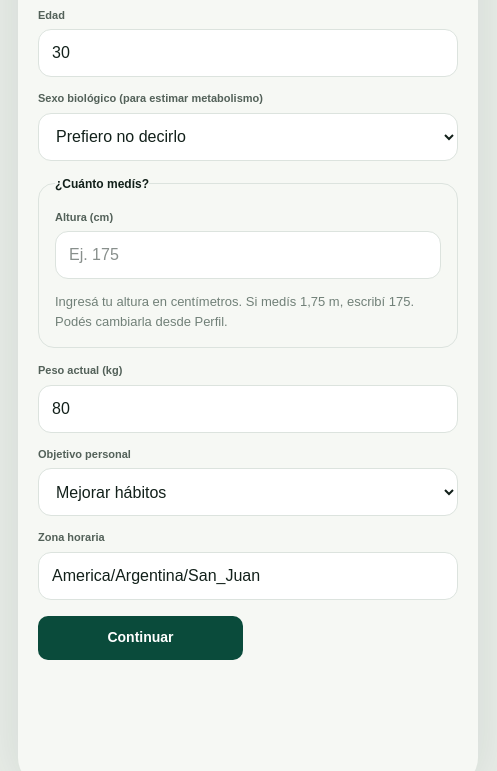
Test: Height collection › asks for height on the first questionnaire step, without a default
This screenshot has width=497, height=771.
(page scrolled)
Check: the text "¿Cuánto medís?" is shown, box [55,174,149,192]
Check: the number field labelled "Altura (cm)" is not empty, box [55,231,441,279]
Click the button "Continuar".
click(140, 638)  # box [38,616,243,660]
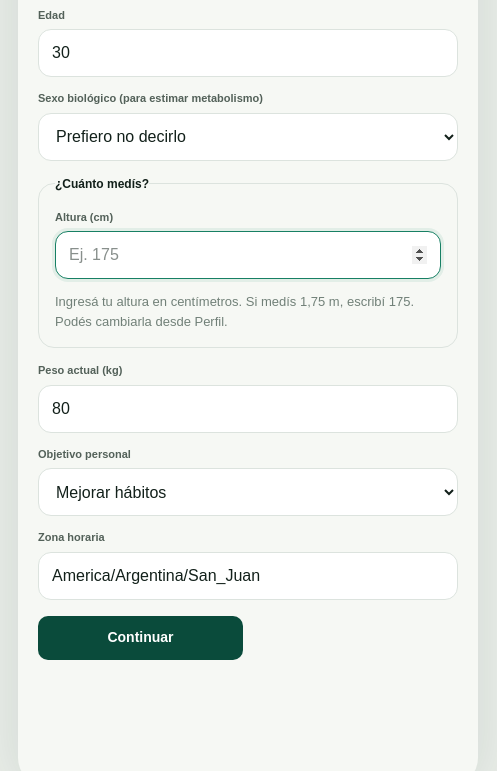
Type "175" into the number field labelled "Altura (cm)".
click(248, 255); type("175")  # box [55,231,441,279]
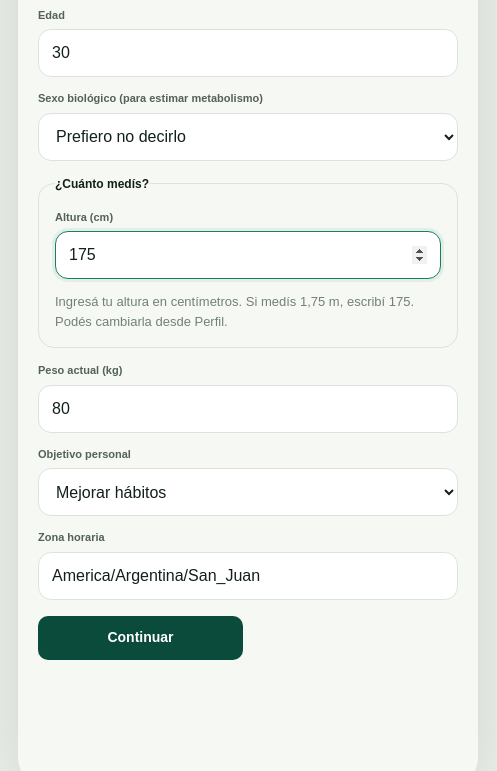
Click the button "Continuar".
click(140, 638)  # box [38,616,243,660]
(page scrolled)
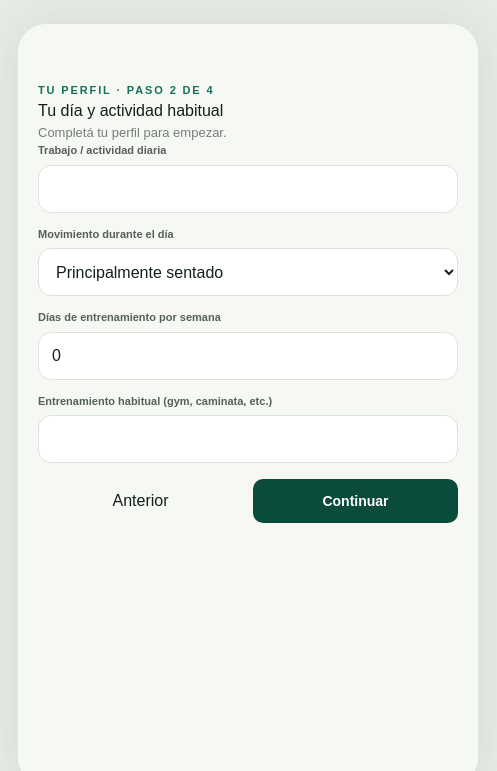
Check: the heading "Tu día y actividad habitual" is shown, box [38,102,223,118]
Click the button "Anterior".
click(140, 501)  # box [38,479,243,523]
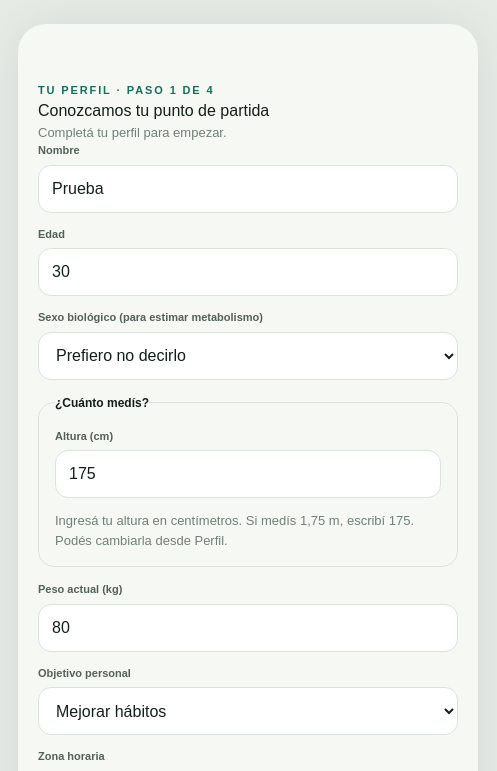
Check: the number field labelled "Altura (cm)" holds "175", box [55,450,441,498]
